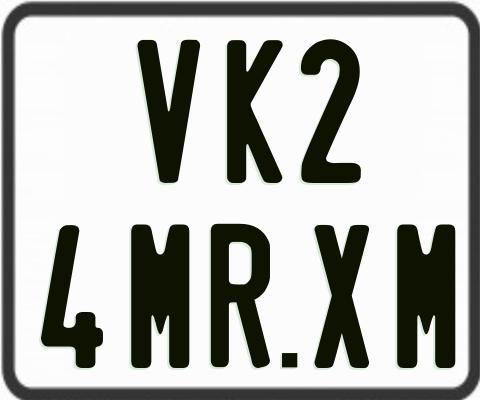2: (298, 37, 363, 186)
4: (38, 225, 103, 373)
K: (225, 39, 283, 186)
M: (394, 223, 455, 368), (129, 225, 188, 373)
R: (211, 223, 275, 371)
V: (136, 38, 200, 186)
X: (313, 222, 369, 371)
